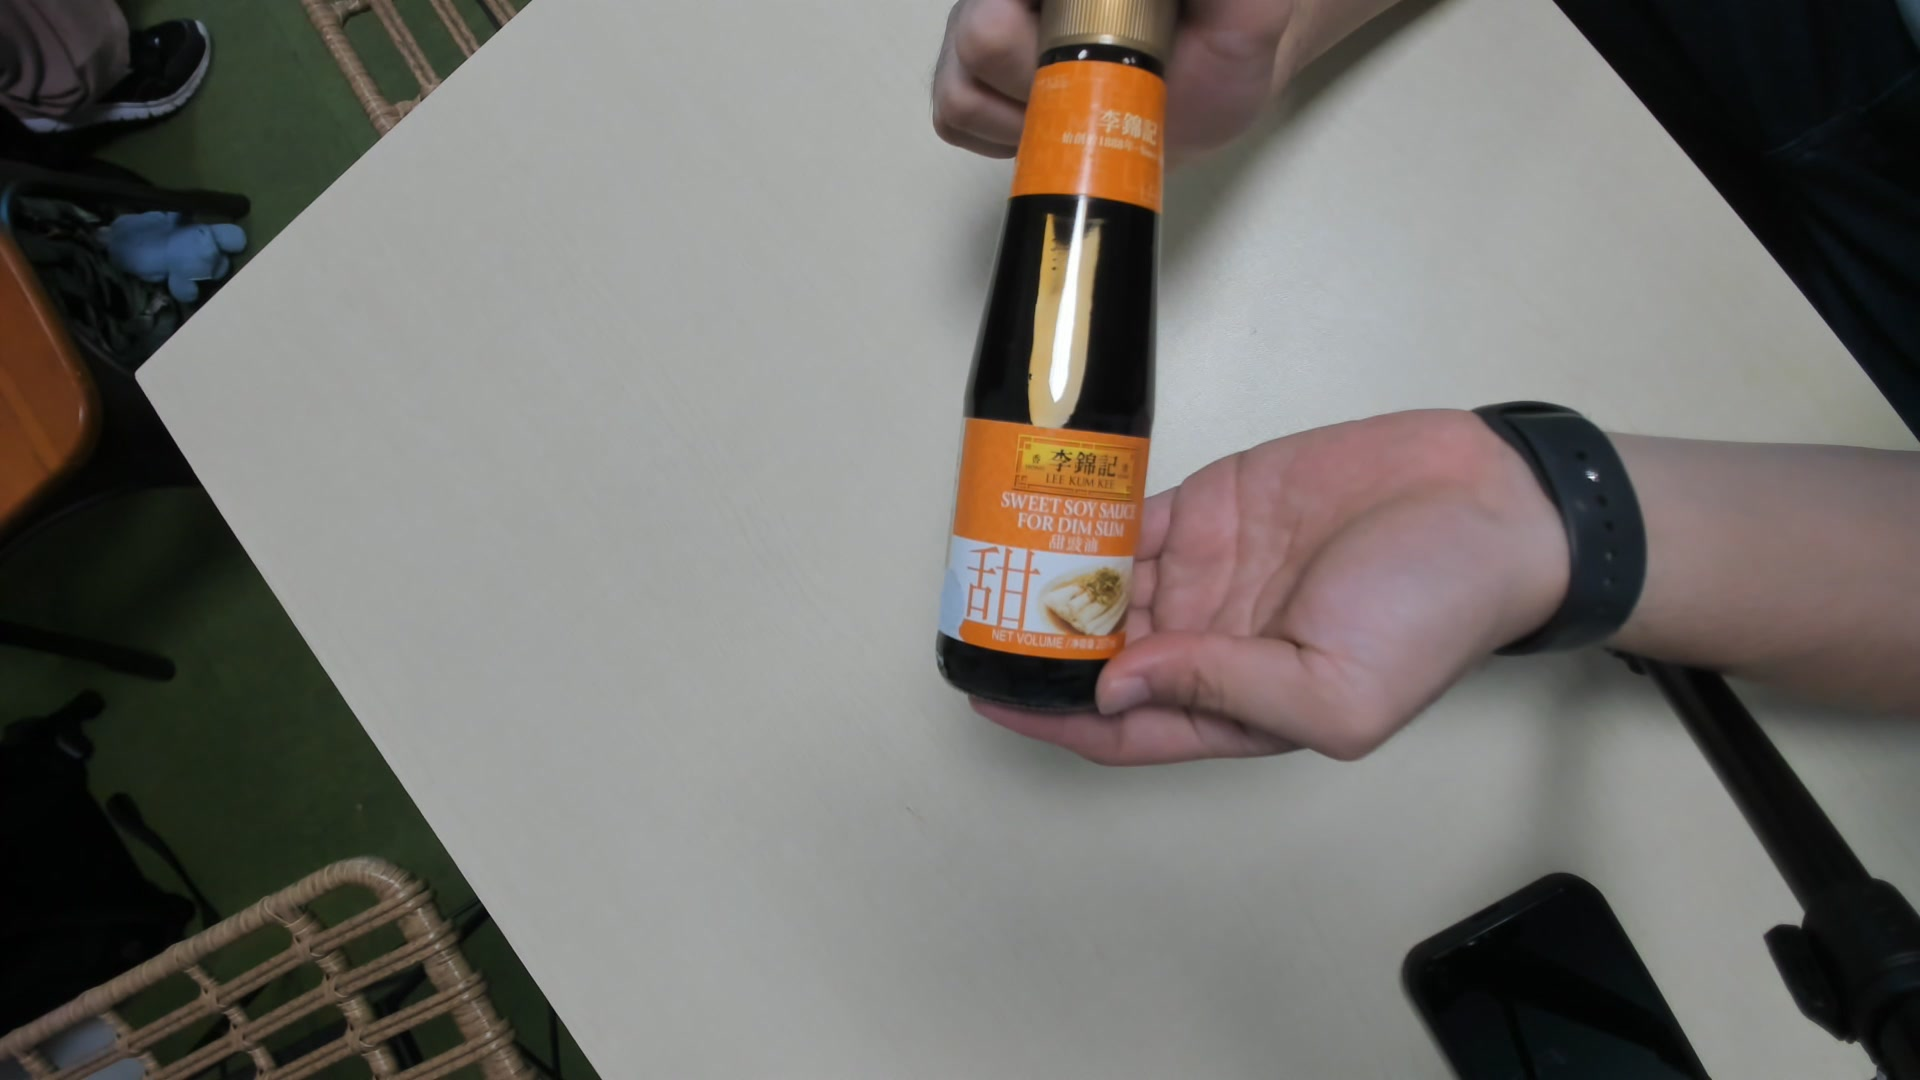OtherSauceDressing_200-299g_NonHalal_NonHealthy: (940, 3, 1175, 702)
